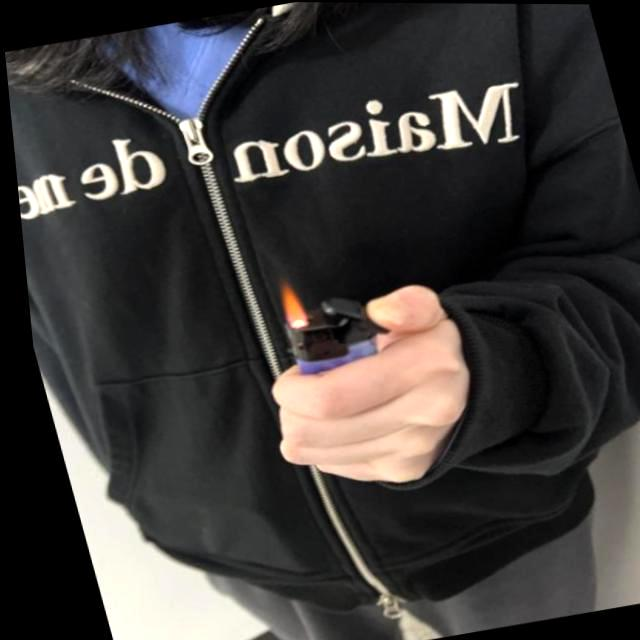fire: (266, 275, 306, 333)
